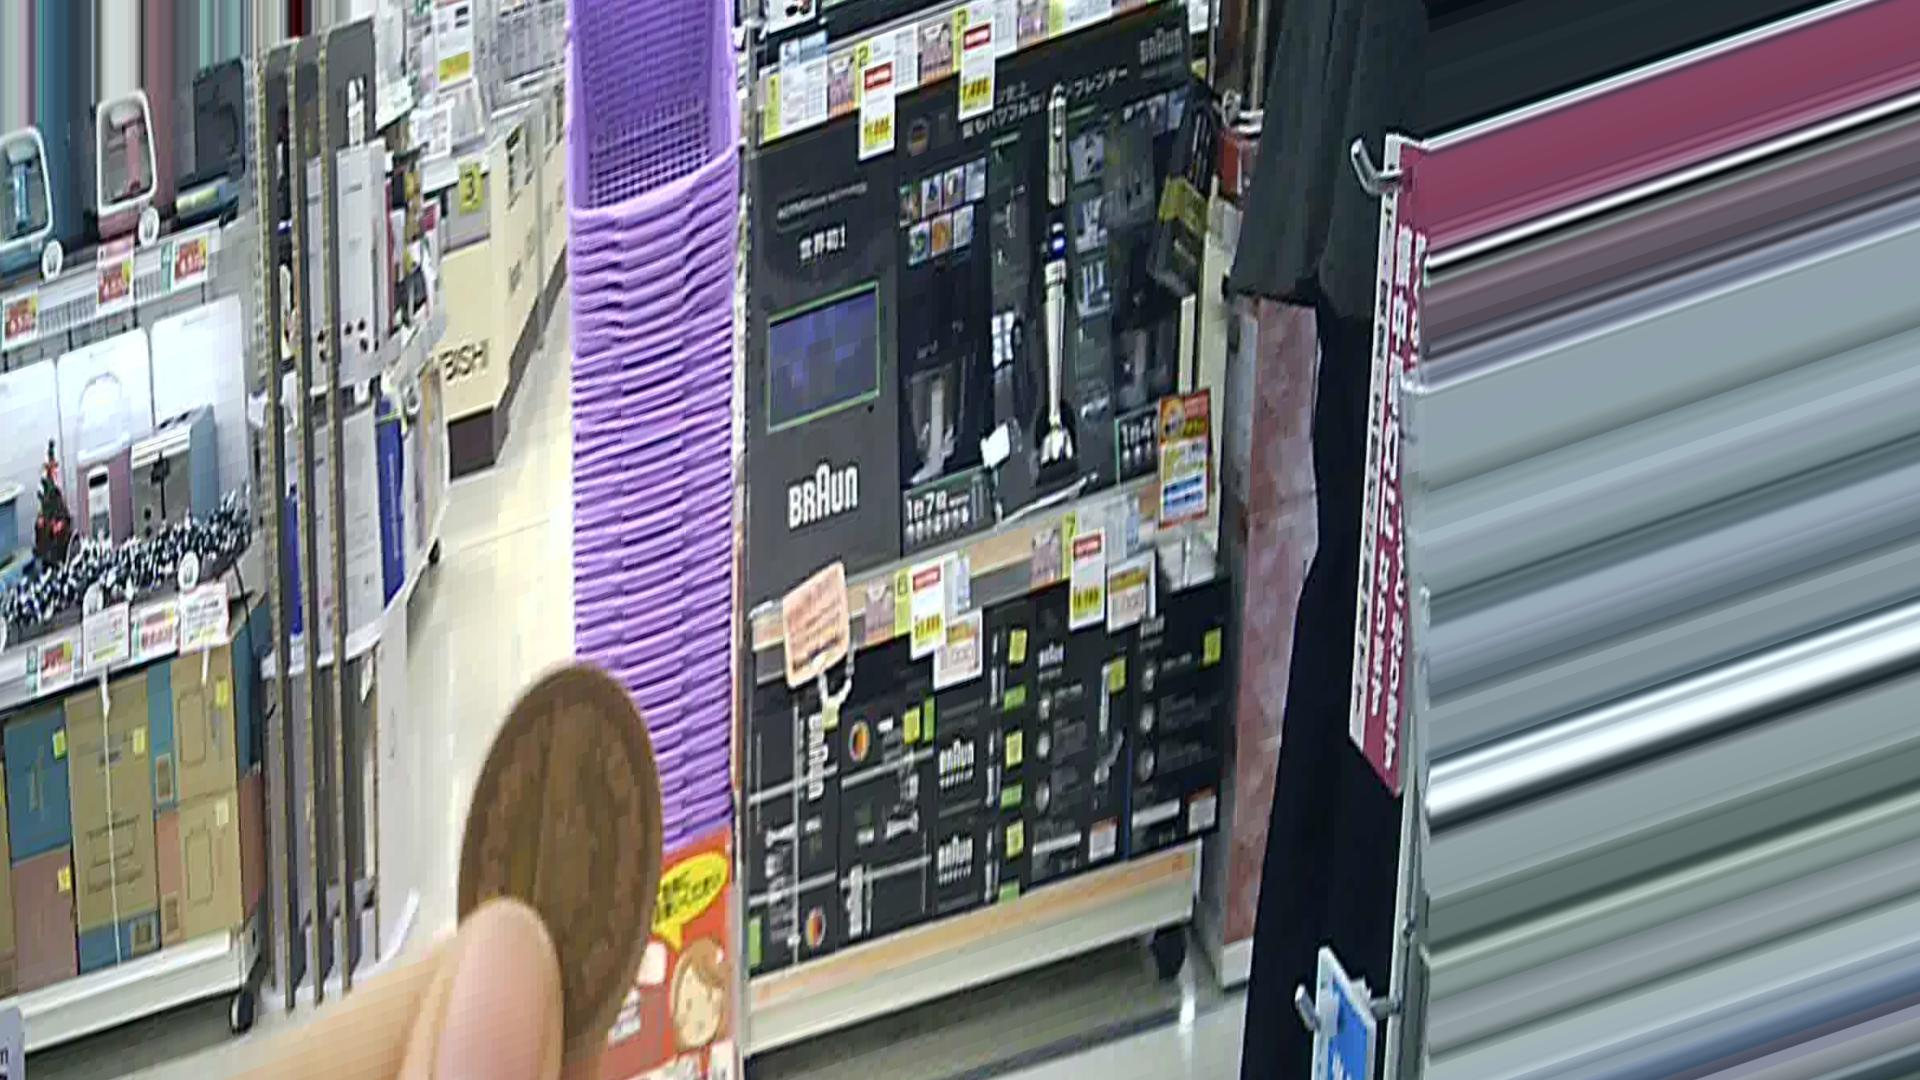10 Yen: (448, 651, 684, 1048)
